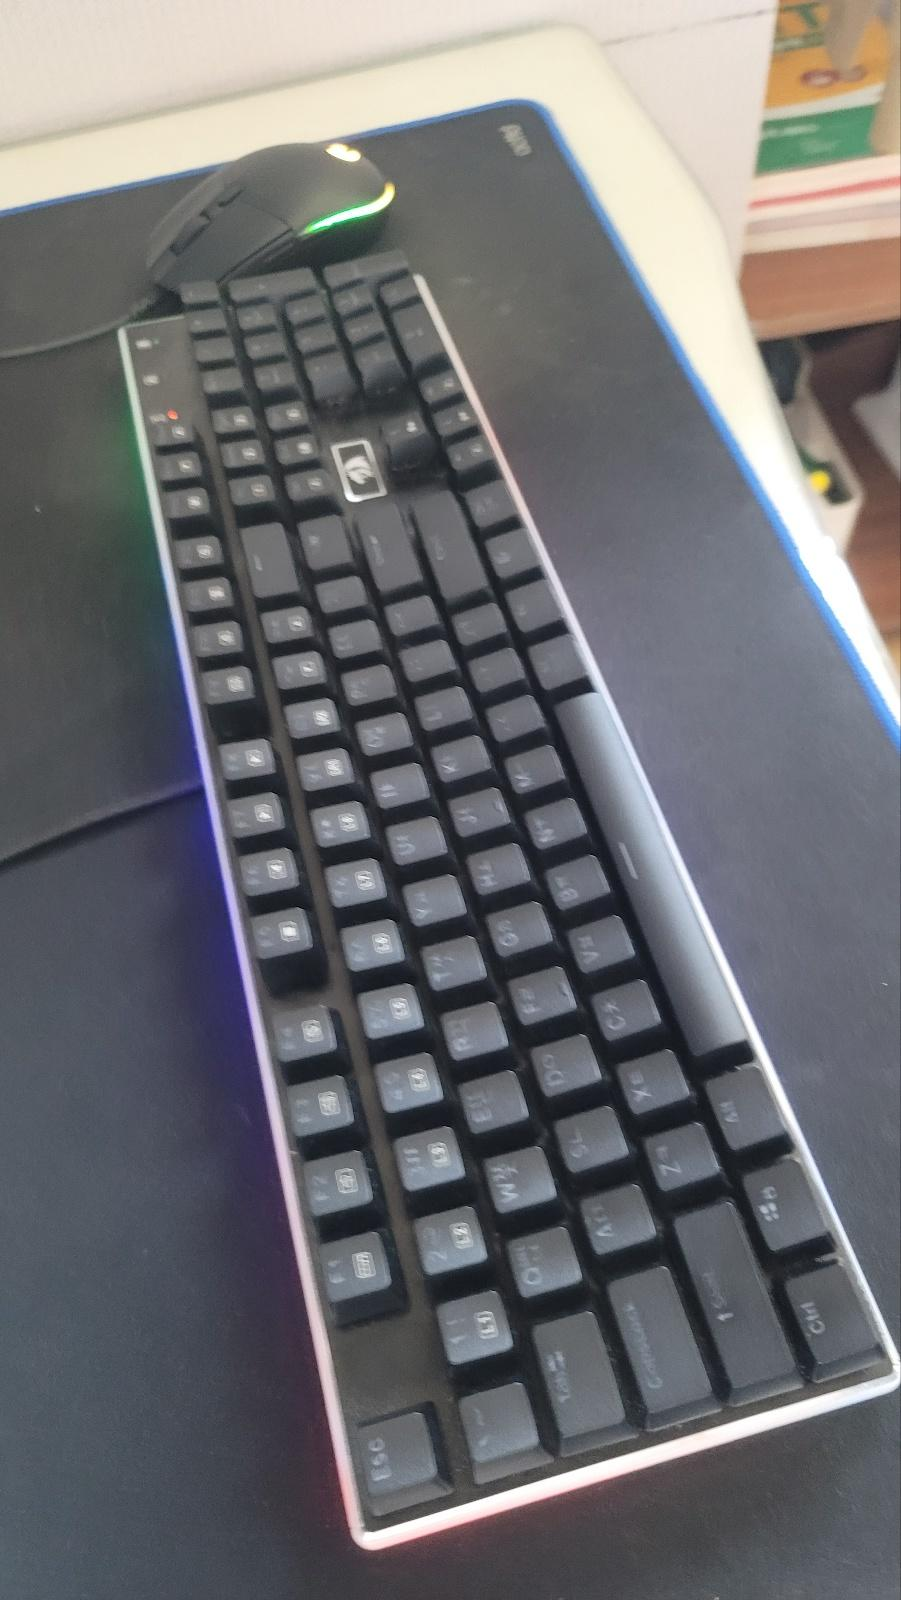keyboard: (116, 246, 898, 1549)
mouse: (142, 138, 394, 295)
